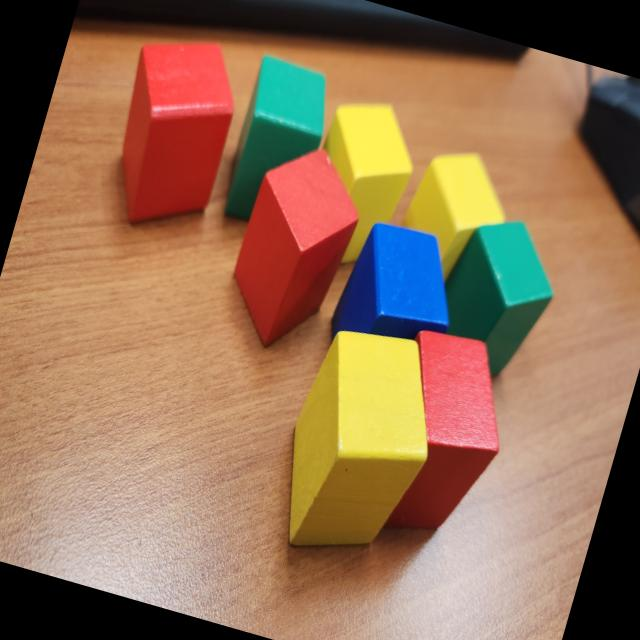blue: (329, 221, 447, 347)
green: (444, 220, 553, 376), (225, 57, 327, 217)
red: (93, 20, 254, 246), (235, 149, 358, 346), (382, 329, 498, 527)
yellow: (289, 332, 426, 544), (323, 105, 412, 263), (403, 152, 505, 281)
